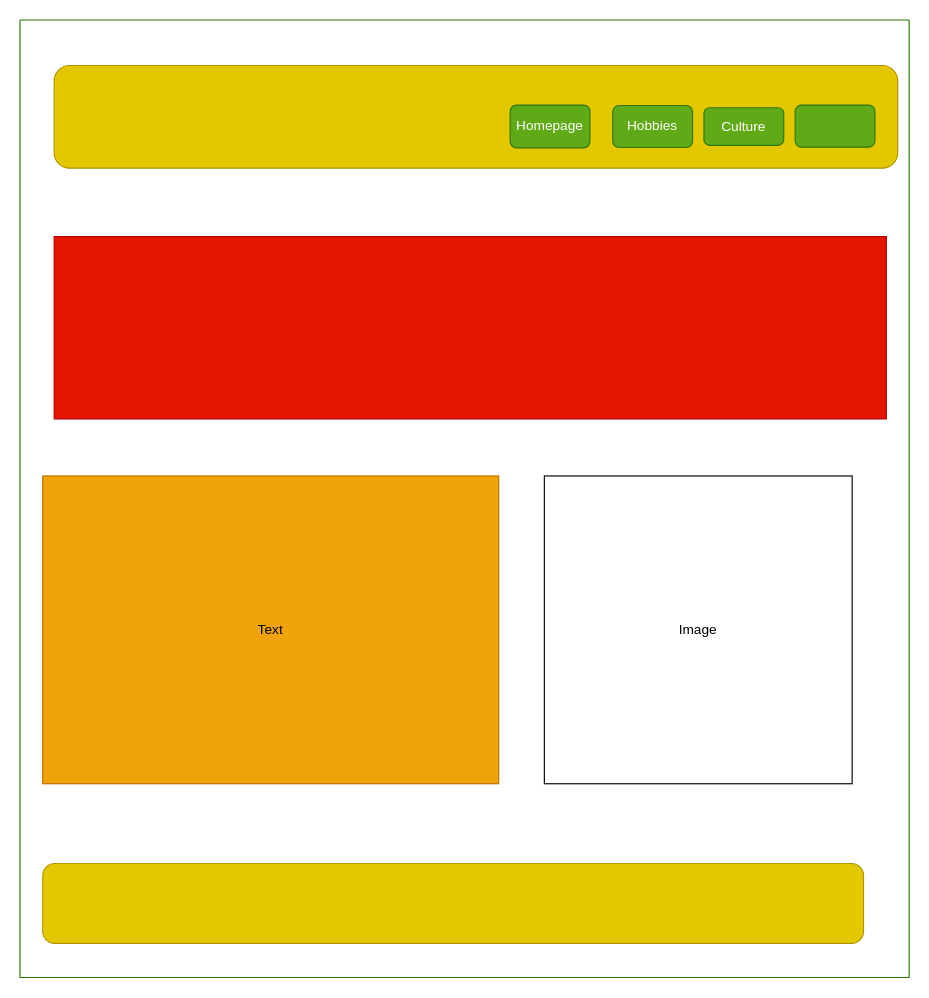
This 929x998 diagram has some shape labels left out. The box of each missing label's shape, as (x1, y1, x2, y2) in pixels:
Contact: (794, 104, 875, 147)
Footer: (42, 862, 864, 943)
Header: (53, 235, 886, 419)
